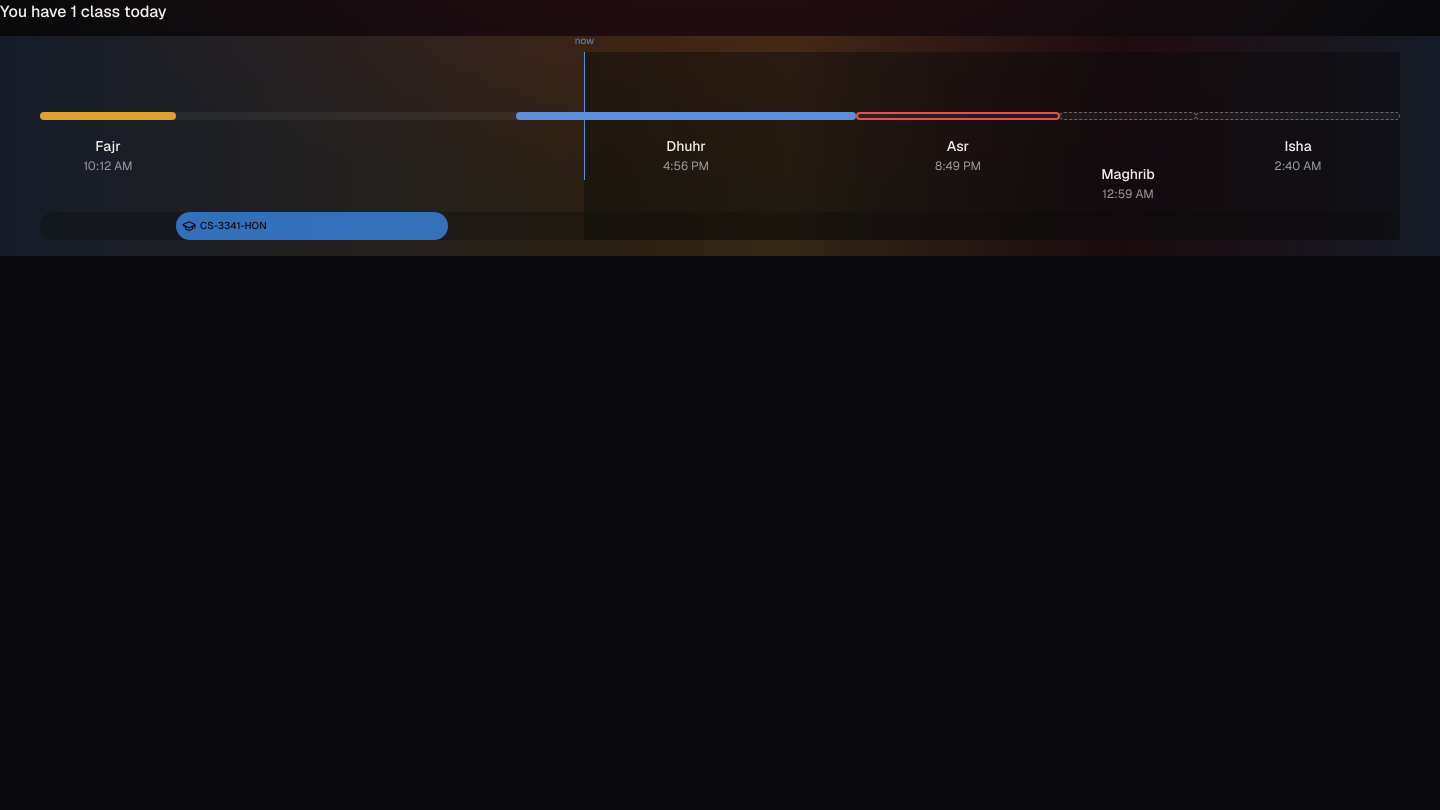
Test: DayRibbon › opens a detail popover when a block with a detail payload is clicked
The width and height of the screenshot is (1440, 810).
Click the button named "CS-3341-HON, 8:30 AM–9:45 AM": [312, 226] box [176,212,448,240]
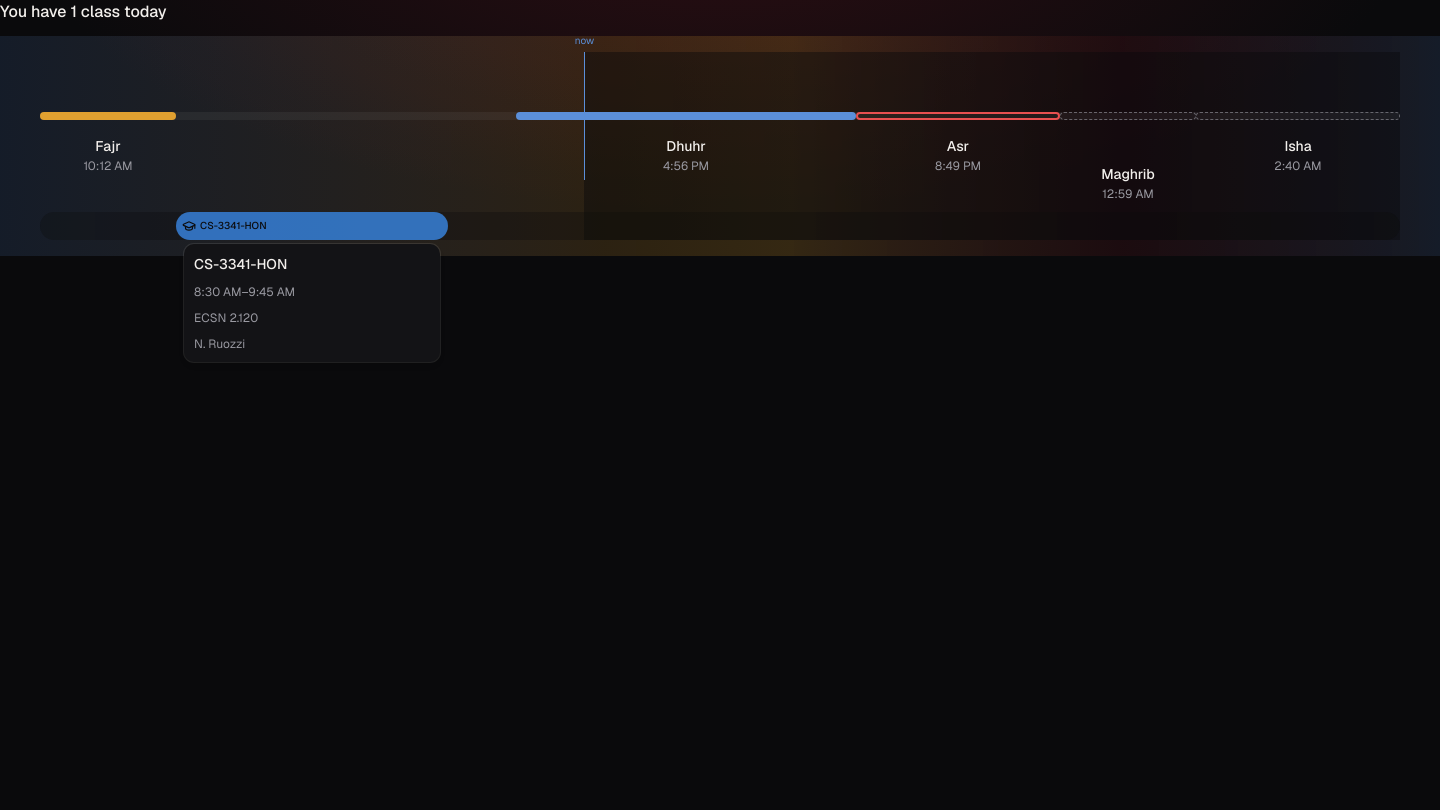
Now the text "ECSN 2.120" is shown, box [194,310,258,326]
Now the text "N. Ruozzi" is shown, box [194,336,245,352]
